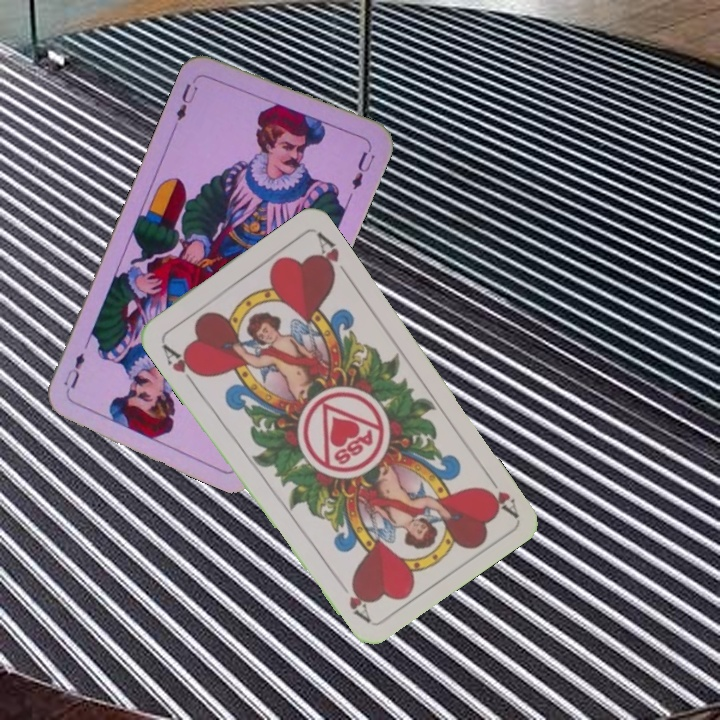EU: (172, 72, 202, 124)
HA: (158, 338, 205, 389), (477, 466, 521, 519)
